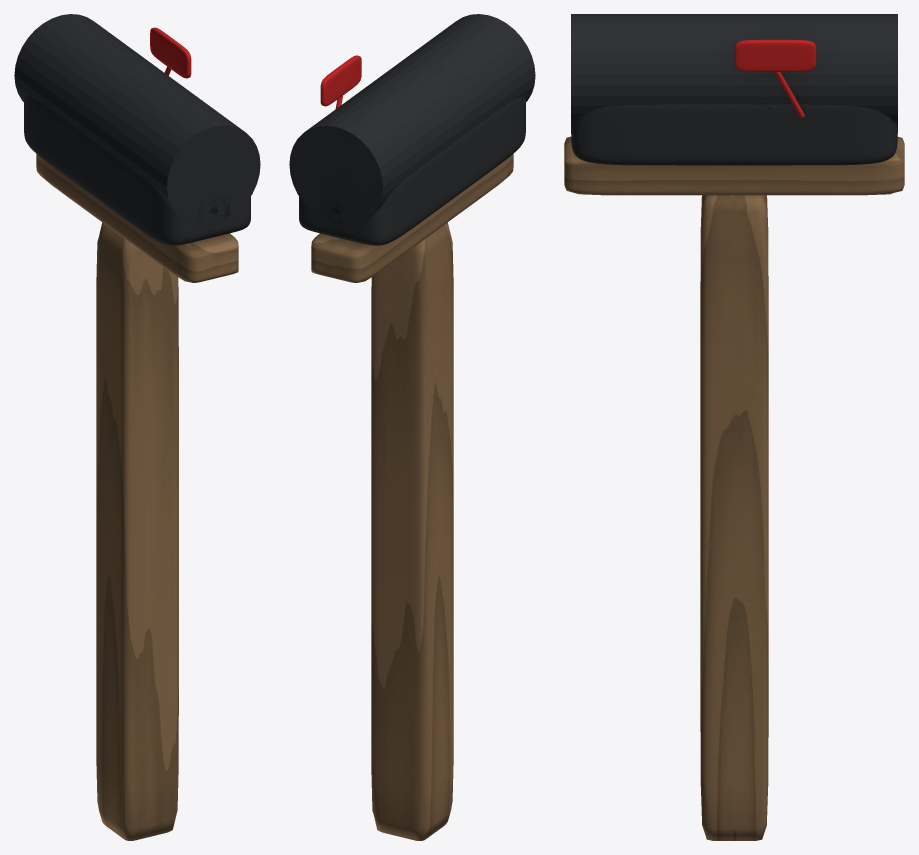
File: us-black.glb
3 views of the same model, side by side, from view 1: azimuth 30°, elevation 25°; view 2: azimuth 150°, elevation 25°; view 3: azimuth 270°, elevation 25° (orthographic). The views are drawn at different scales.
Parts seen in each view (by area): view 1: wood_z, paint_primary, wood_y, flag_red; view 2: wood_z, paint_primary, wood_y, flag_red; view 3: paint_primary, wood_z, wood_y, flag_red.
Part boxes in pixels (x1,y1,x2,y2): wood_z: [96, 222, 178, 840]; paint_primary: [14, 14, 260, 245]; wood_y: [36, 154, 238, 282]; flag_red: [150, 27, 191, 78]; wood_z: [371, 222, 453, 840]; paint_primary: [289, 14, 535, 245]; wood_y: [311, 154, 513, 282]; flag_red: [320, 55, 361, 108]; paint_primary: [571, 14, 897, 165]; wood_z: [700, 195, 768, 840]; wood_y: [564, 136, 904, 195]; flag_red: [734, 39, 816, 117].
Size of the model in its own units: 0.185 by 1.32 by 0.5.
4 materials, 3 textured.
